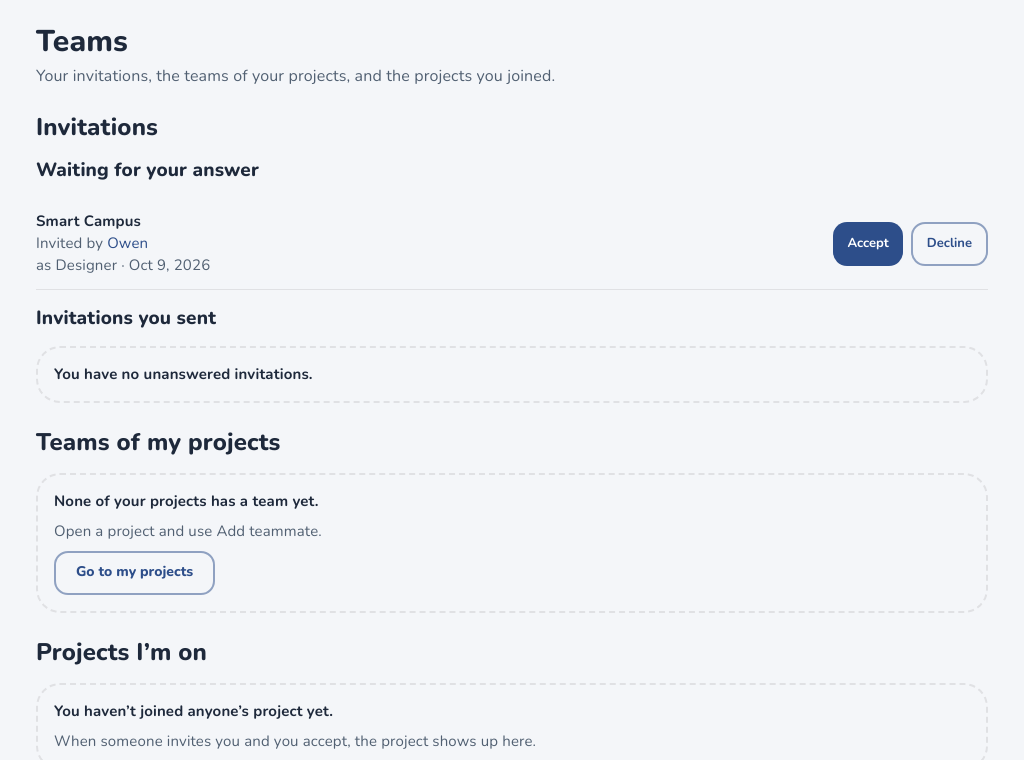
incoming invitations › any other failure keeps the buttons and shows the reason
The image size is (1024, 760).
What coordinates should you click on to do the following:
click the button with aria-label "Accept the invitation"
I would click on:
 (868, 244)
Its box is [833, 222, 903, 266].
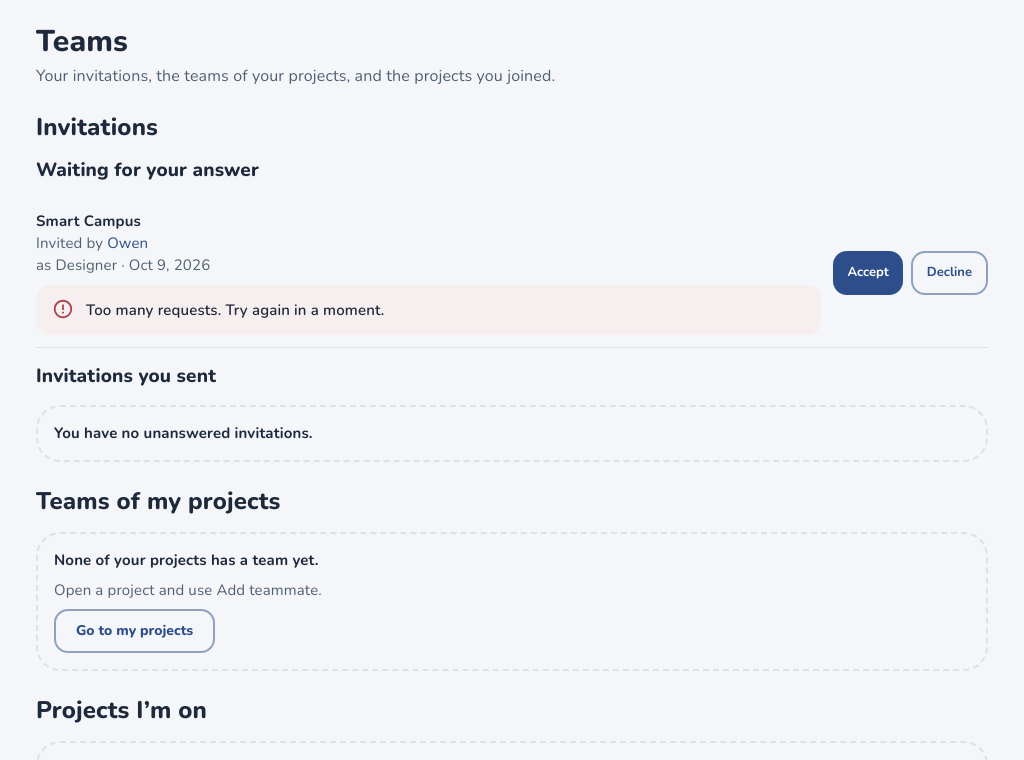
Expected: the button with aria-label "Accept the invitation" is enabled, [833, 251, 903, 295]
Expected: the message shows "Too many requests", [86, 300, 385, 320]
